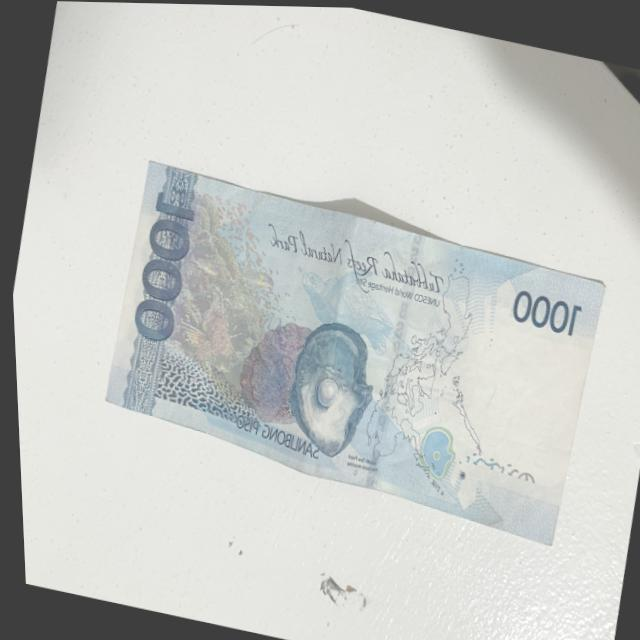1000_pearl: (278, 314, 381, 449)
1000_pearl_watermark: (410, 422, 456, 477)
